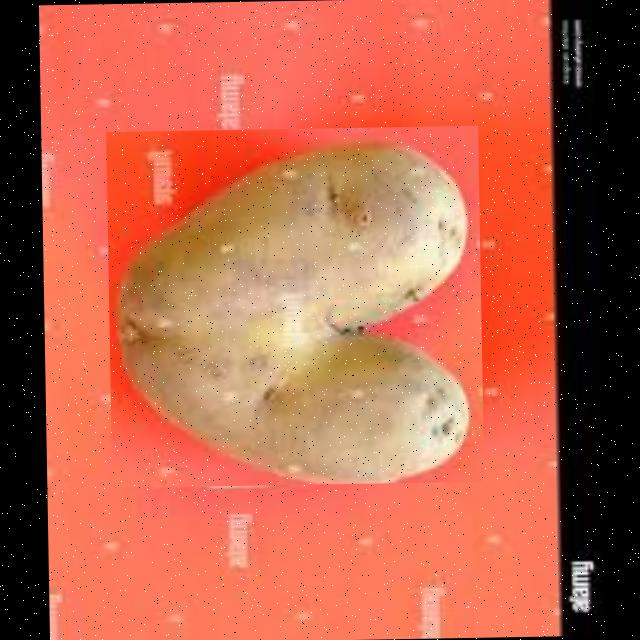Damaged potato: (105, 125, 483, 488)
